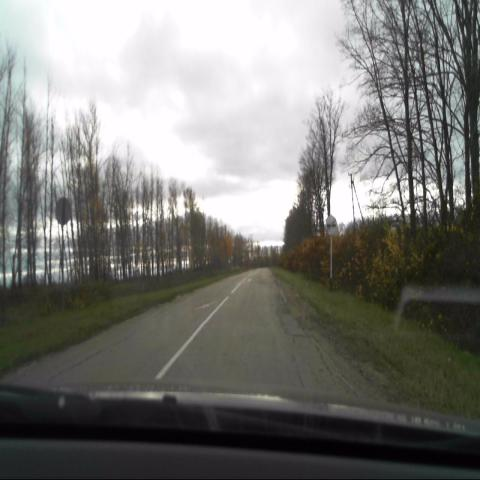3_21: (326, 216, 336, 237)
